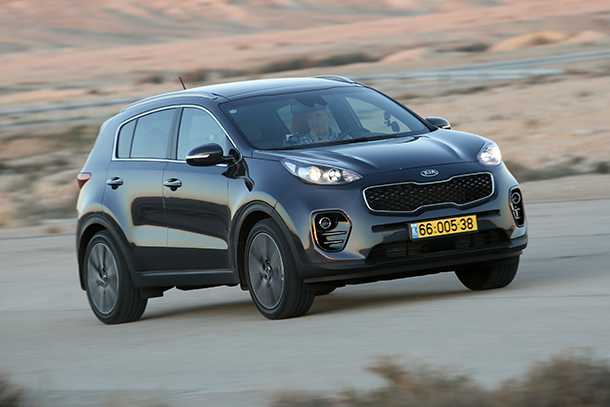licence: (407, 212, 477, 242)
